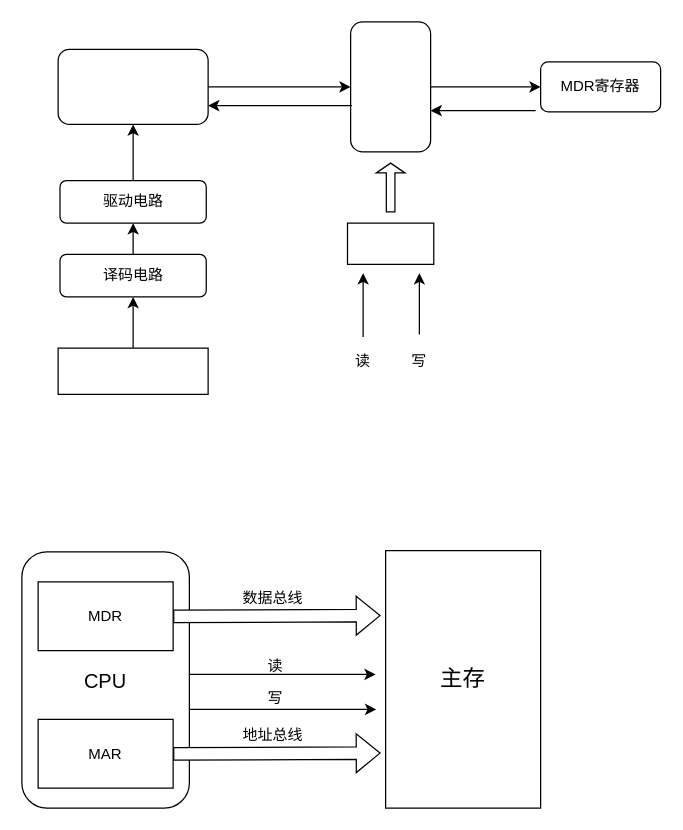
Image size: 683x830. Some labels were removed from this diagram. The shapes that lost their labels are listed below. From the top down, each one's centre as x and y in pixels, then its label:
At [132,86]: "M存储体".
At [390,86]: "读写控制电路".
At [390,243]: "控制电路".
At [132,370]: "MAR寄存器".
